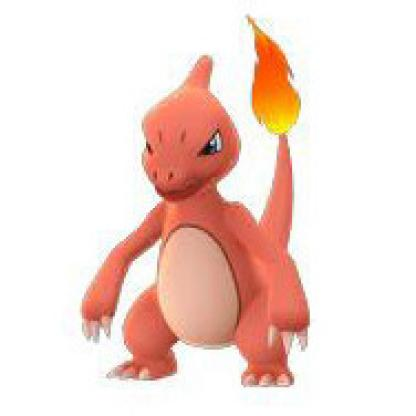Charmeleon: (64, 16, 355, 395)
